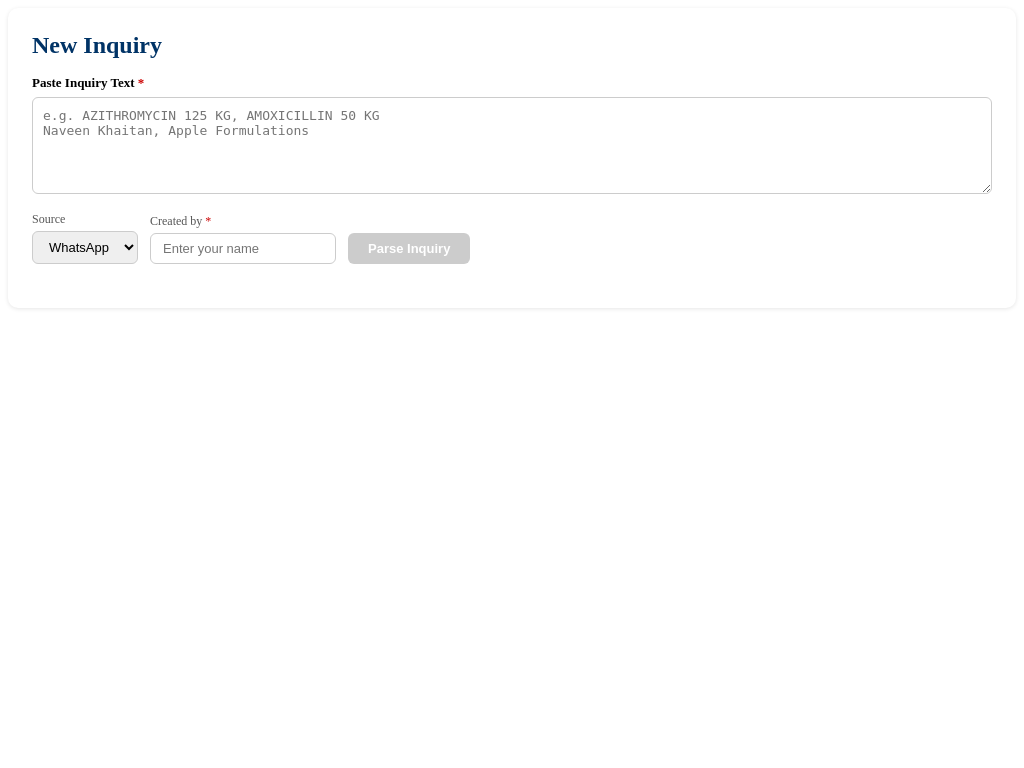
Test: NewInquiry — parse and save flow › Save Inquiry button is disabled while saving
The width and height of the screenshot is (1024, 768).
Replace the text in the text box with "Azithromycin 125 KG": (512, 146) [32, 97, 992, 194]
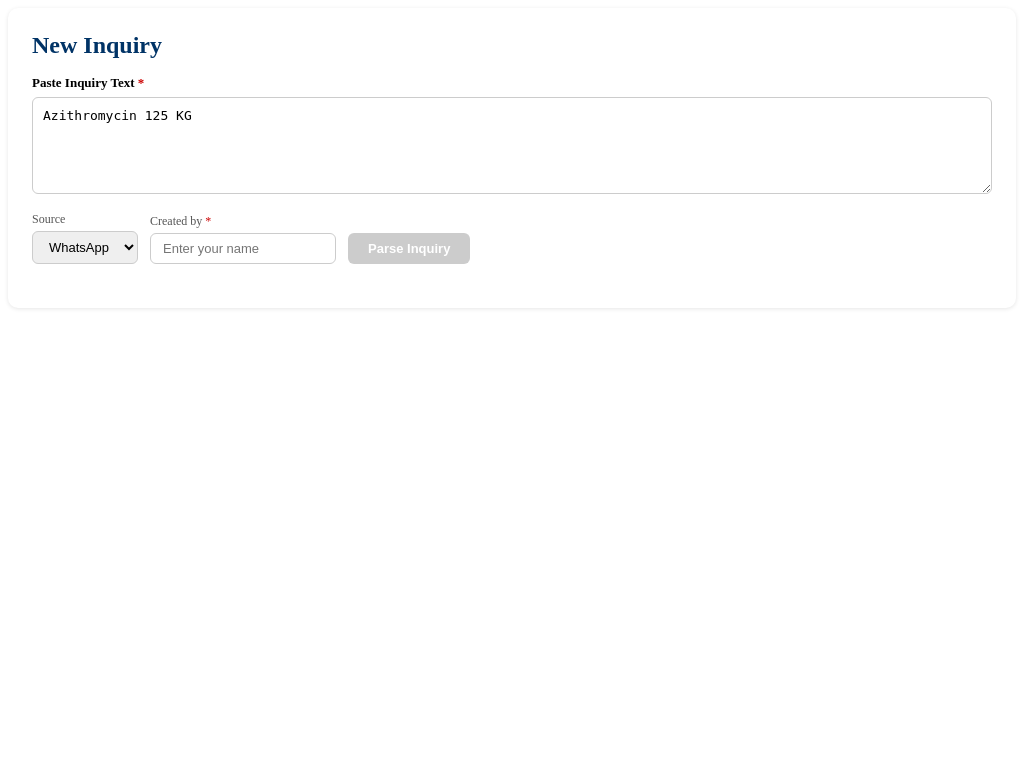
In the field with placeholder "Enter your name": (243, 248) [150, 233, 336, 264], type "Paras"
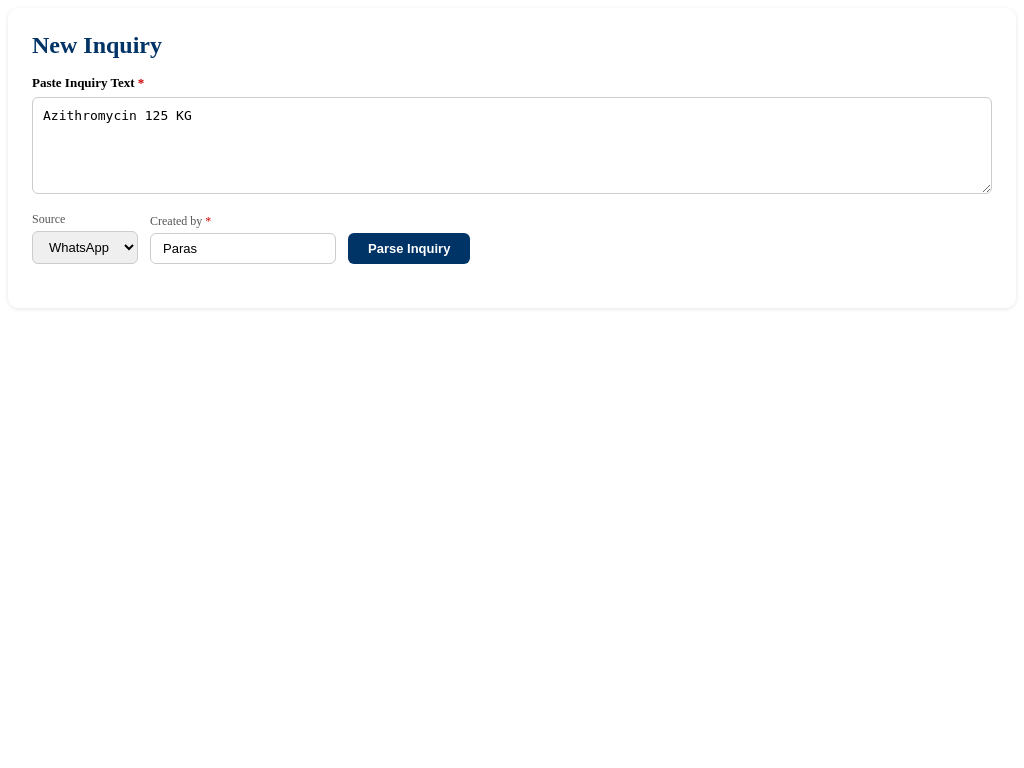
Click the button "Parse Inquiry": (409, 248) [348, 233, 470, 264]
(page scrolled)
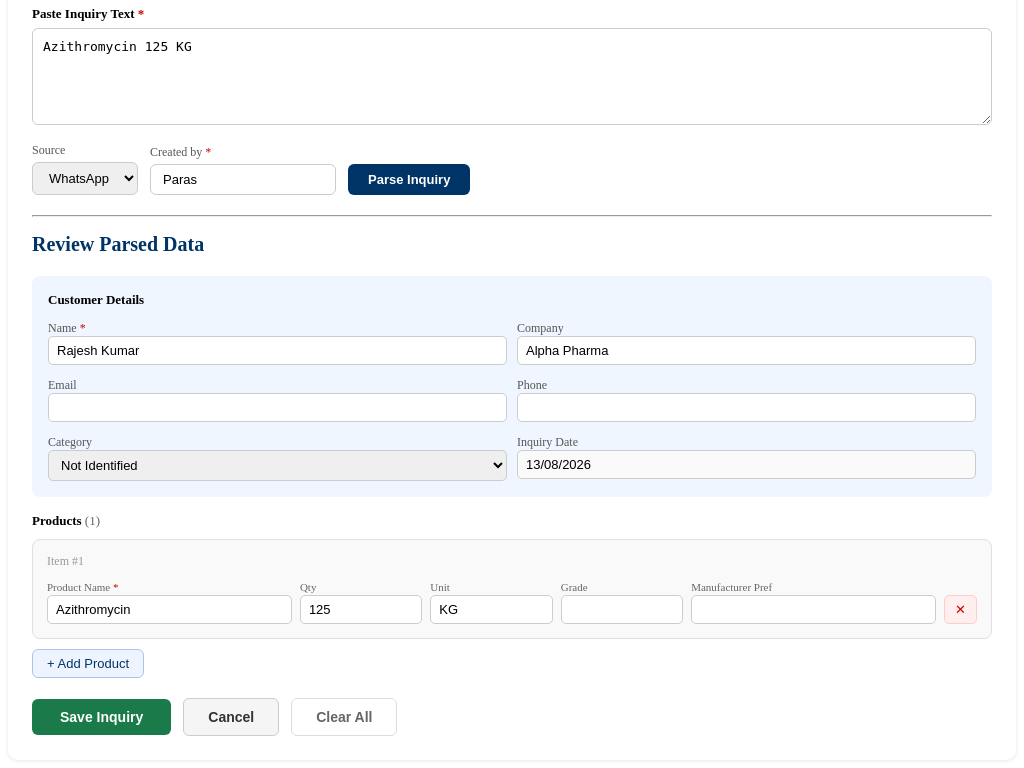
Now the button "Save Inquiry" is shown
Click the button "Save Inquiry": (102, 717) [32, 699, 171, 735]
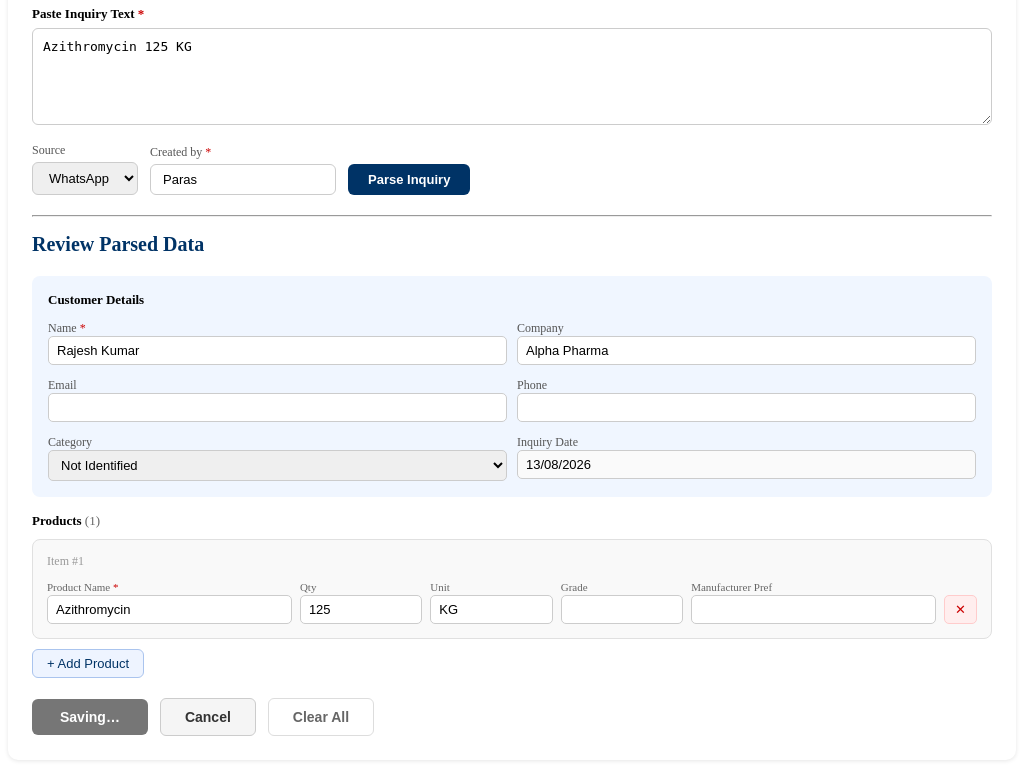
Now the button "Saving…" is disabled, box [32, 699, 148, 735]
